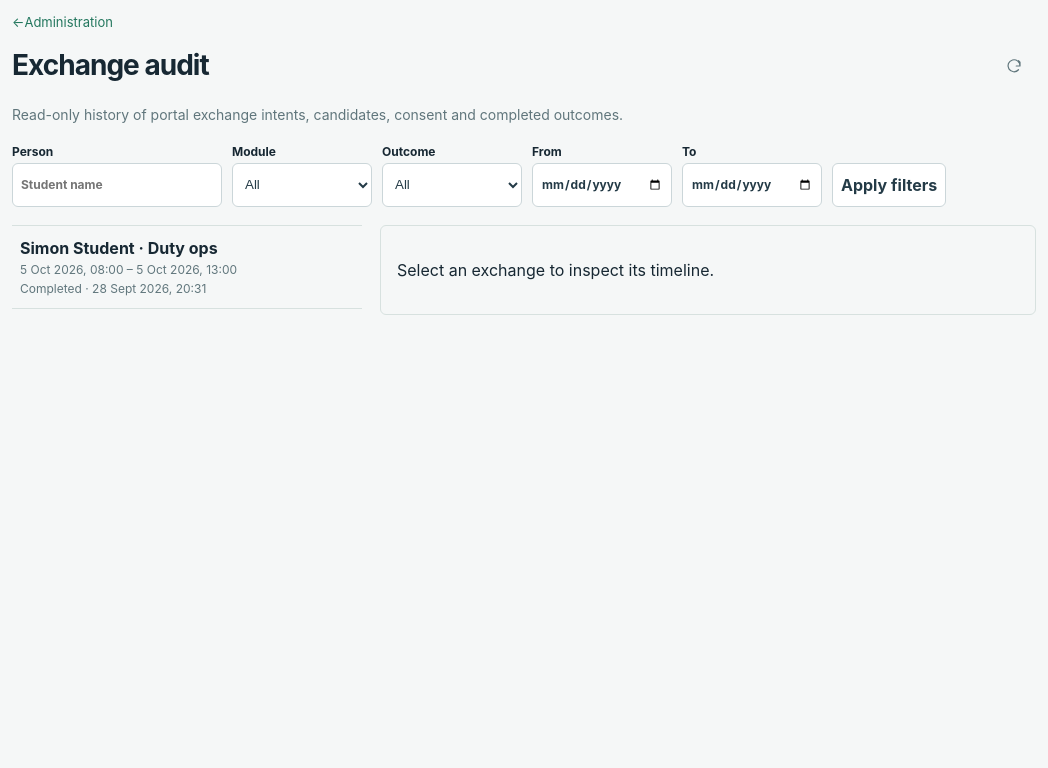
Test case: filters Exchange cases and presents a read-only chronological audit without private fields
Expected: the heading "Exchange audit" is shown, [12,49,209,83]
What coordinates should you click on to do the following:
click the button that starts with "Simon Student"
I would click on:
 (187, 267)
Its box is [12,226,362,309].
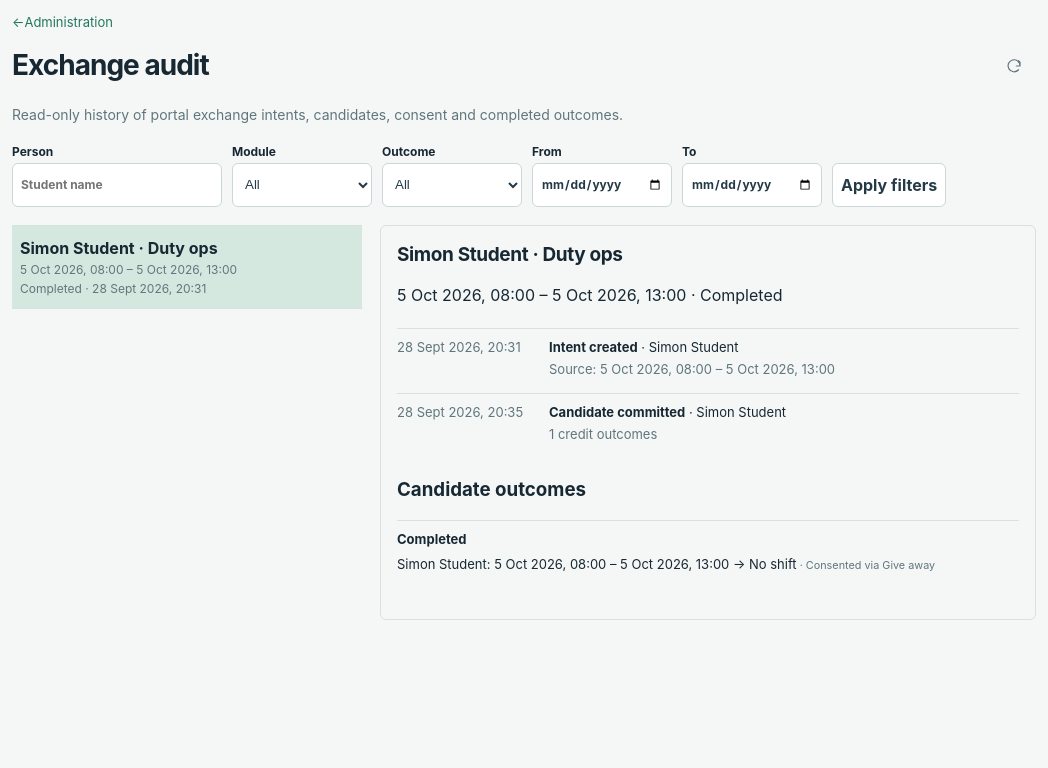
Expected: the list with class "exchange-audit-candidates" shows "Simon Student", [397,556,487,572]
Expected: the list with class "exchange-audit-candidates" shows "Consented via Give away", [806,559,935,572]
